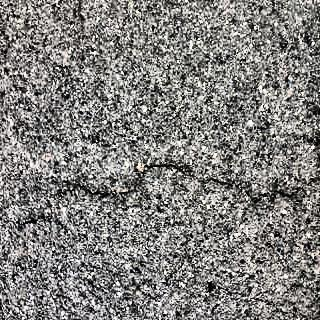crack: (83, 140, 298, 235)
